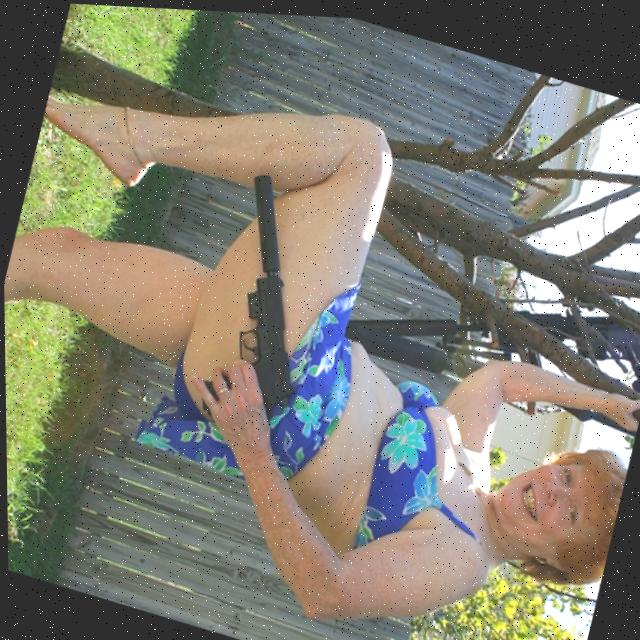pistol: (196, 165, 347, 428)
